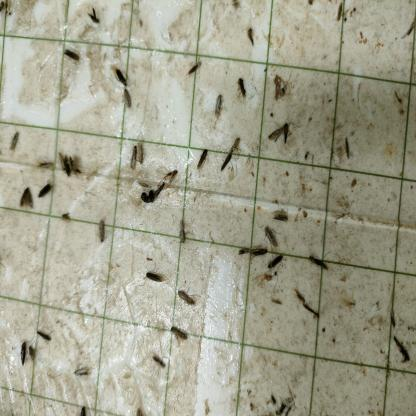prays_oleae: (394, 333, 414, 373), (307, 246, 330, 280), (271, 120, 294, 153), (16, 184, 37, 216), (62, 45, 83, 72), (176, 284, 197, 310), (34, 322, 53, 350), (271, 68, 288, 98), (167, 322, 188, 345), (263, 221, 280, 248), (268, 253, 287, 277), (12, 341, 29, 367), (134, 140, 148, 170), (149, 348, 167, 371), (164, 168, 179, 195), (38, 178, 52, 206), (194, 146, 208, 174), (220, 149, 235, 175), (94, 219, 107, 248), (213, 94, 226, 123), (272, 203, 288, 226), (66, 150, 80, 176), (176, 216, 188, 246), (112, 64, 129, 85), (186, 57, 203, 78), (234, 73, 247, 100), (343, 131, 353, 166), (71, 362, 90, 380), (245, 19, 256, 50), (144, 268, 168, 282), (8, 129, 22, 152), (36, 156, 56, 172), (247, 245, 267, 261), (386, 307, 400, 329), (55, 149, 67, 174), (86, 6, 100, 27), (128, 144, 137, 168), (230, 136, 242, 154), (153, 182, 166, 198), (121, 88, 132, 106), (60, 210, 72, 225), (28, 343, 36, 363), (64, 155, 71, 177)
